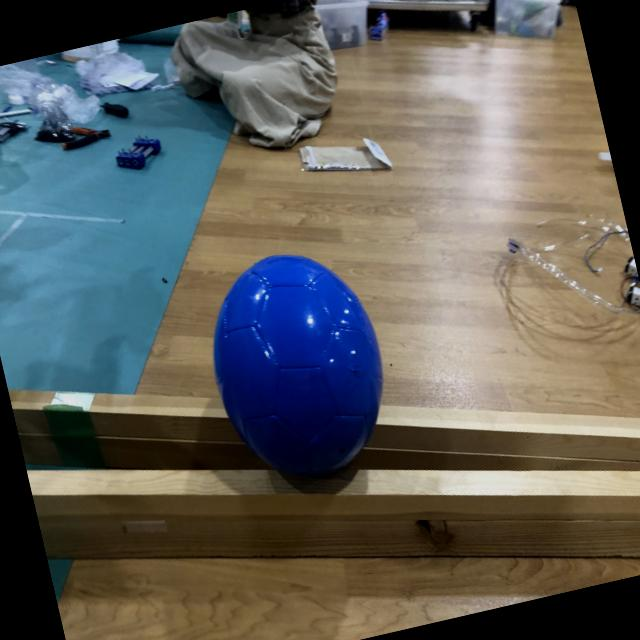blue_ball: (178, 227, 412, 514)
